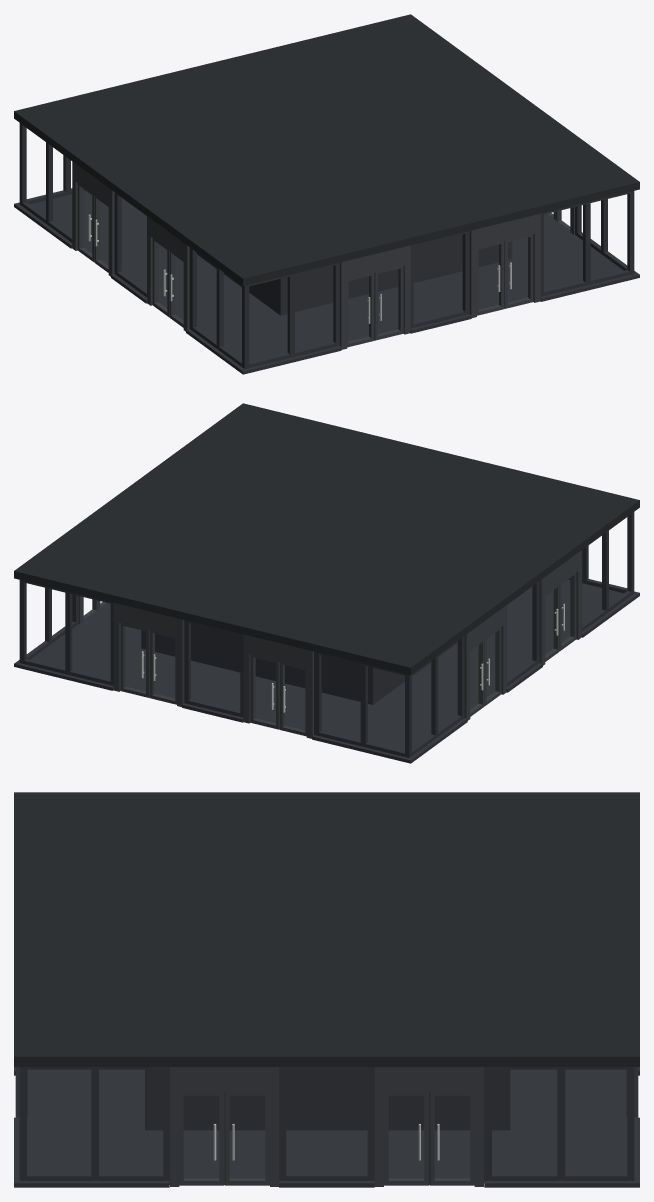
Rendered from SM_Bld_OfficeSquare_Base_01.obj.
3 renders of one model, top to bottom at view 1: azimuth 30°, elevation 25°; view 2: azimuth 150°, elevation 25°; view 3: azimuth 270°, elevation 25°, orthographic. The views are drawn at different scales.
Visible parts, largest first — view 1: SM_Bld_OfficeSquare_Base_01_0; view 2: SM_Bld_OfficeSquare_Base_01_0; view 3: SM_Bld_OfficeSquare_Base_01_0.
Boxes of the visible parts, x1=… form: SM_Bld_OfficeSquare_Base_01_0: x1=14, y1=14, x2=639, y2=374; SM_Bld_OfficeSquare_Base_01_0: x1=14, y1=403, x2=639, y2=763; SM_Bld_OfficeSquare_Base_01_0: x1=14, y1=792, x2=639, y2=1187.
Bounding box in the file's own units: 15.28 × 3.53 × 15.28.
1 material, 1 textured.
